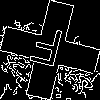F: (25, 25, 66, 76)
